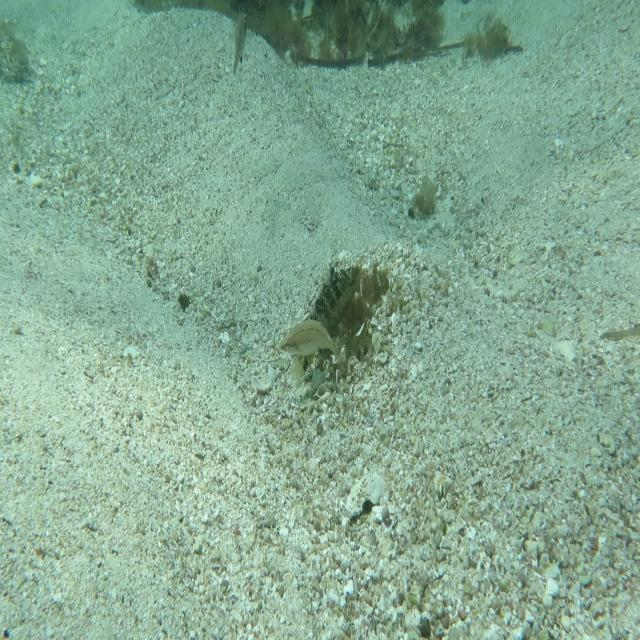BEND: (288, 248, 369, 400)
female: (276, 310, 347, 376)
nest: (298, 256, 393, 390)
other_fish: (232, 0, 252, 89)
vegetation: (255, 0, 524, 71)
